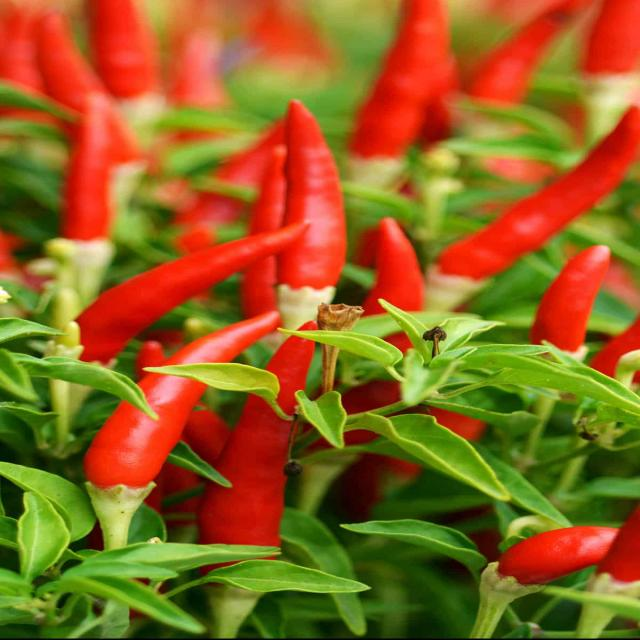red chili: (50, 303, 303, 548), (267, 82, 363, 333), (462, 491, 640, 621), (493, 229, 640, 367)
